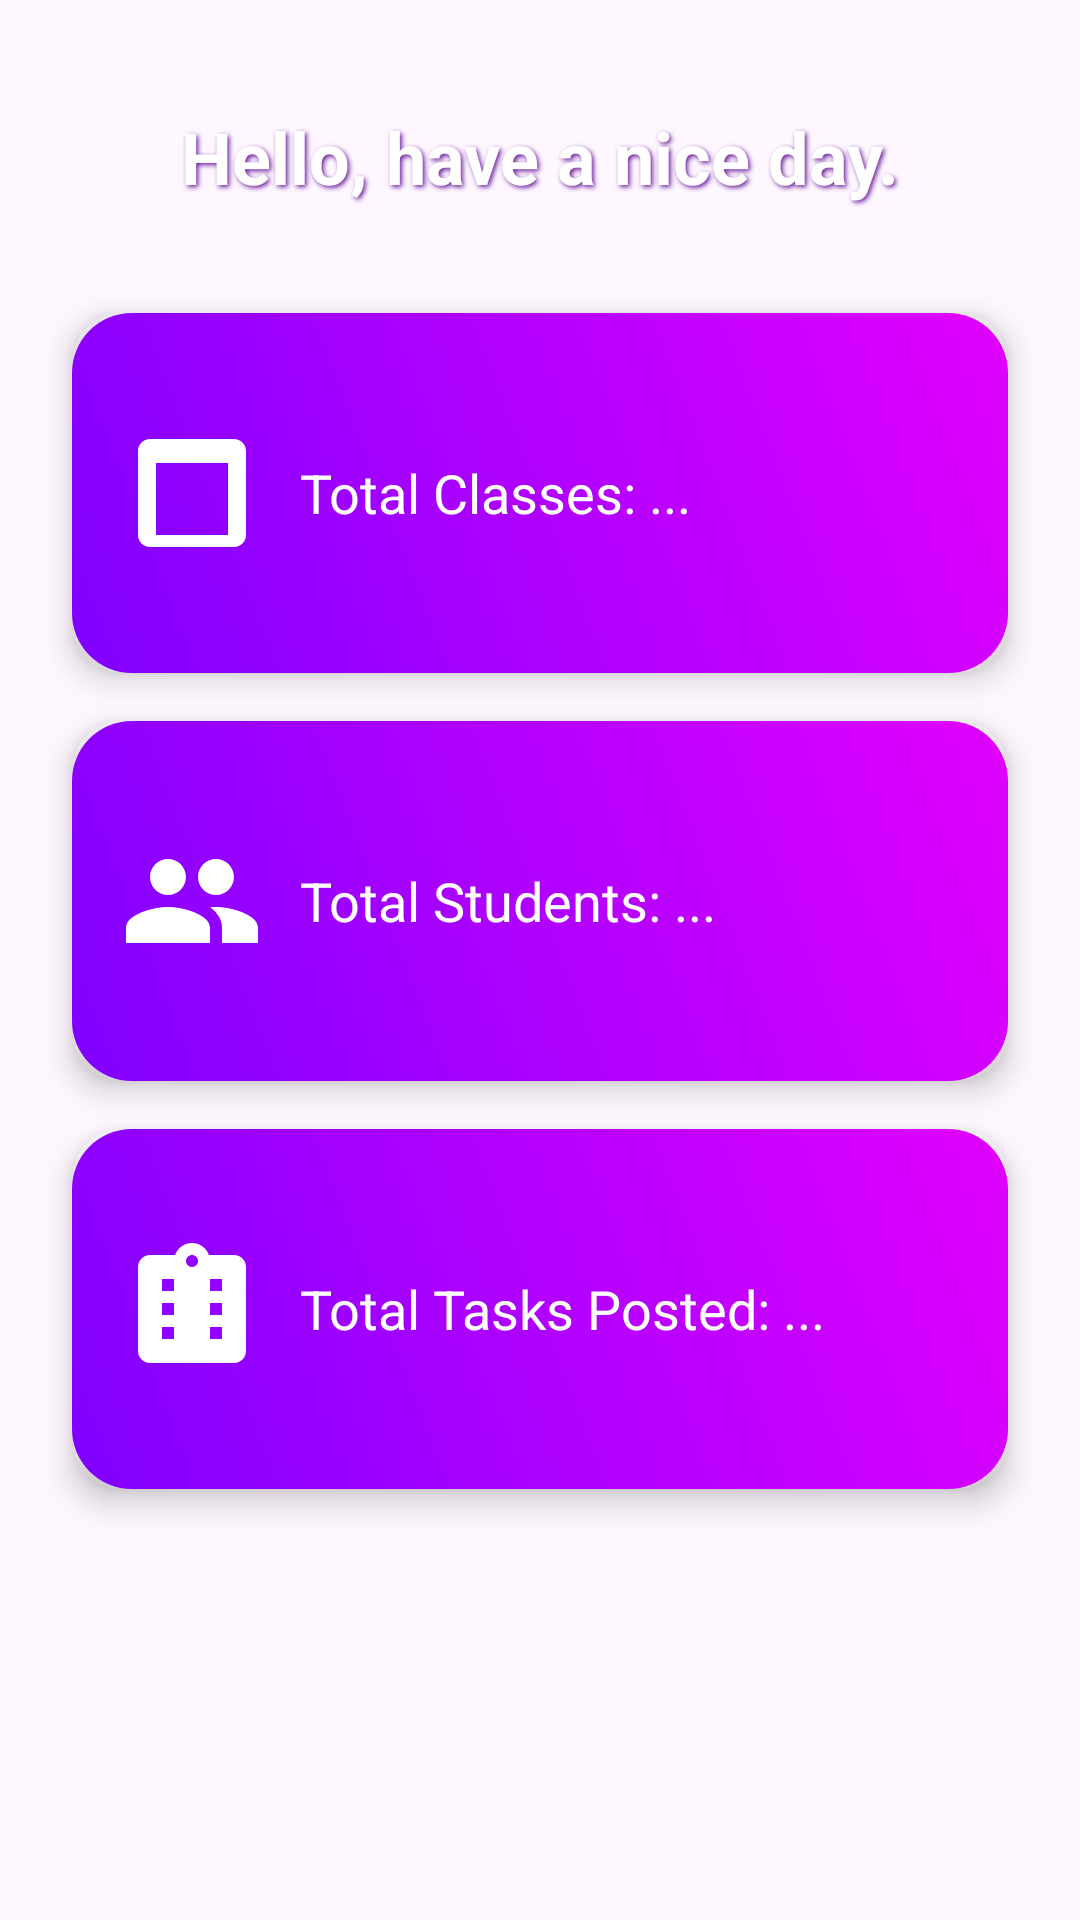

Icon bounding boxes for this 1080w x 1920h phone screenshot, format (x1, y1, x2, y2):
Student icon: (126, 859, 258, 943)
Task icon: (138, 1243, 246, 1363)
